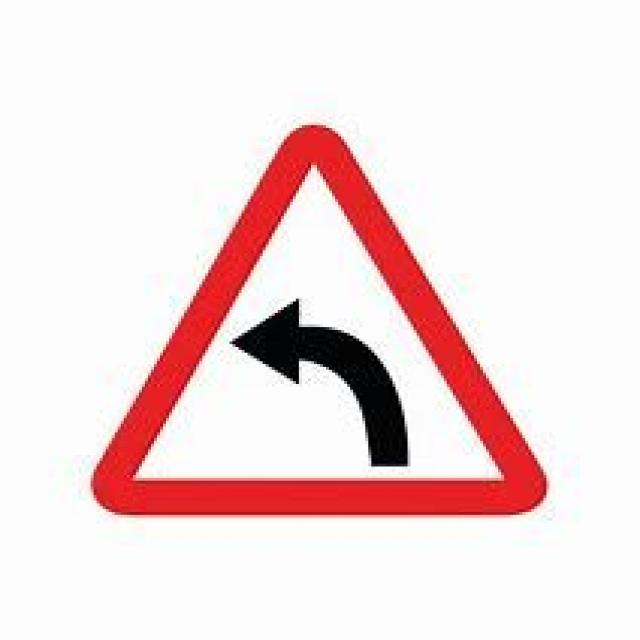LEFT_HAND_CURVE: (88, 119, 546, 512)
